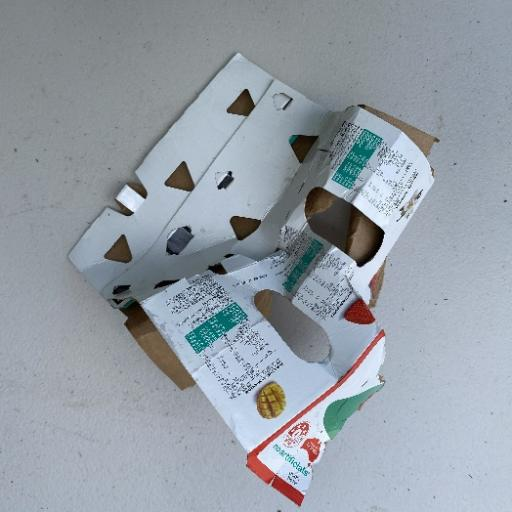Cardboard: (66, 52, 440, 507)
